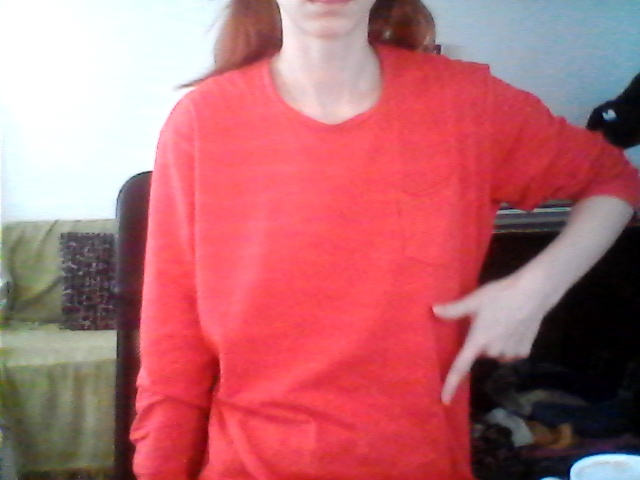policia: (423, 268, 545, 414)
